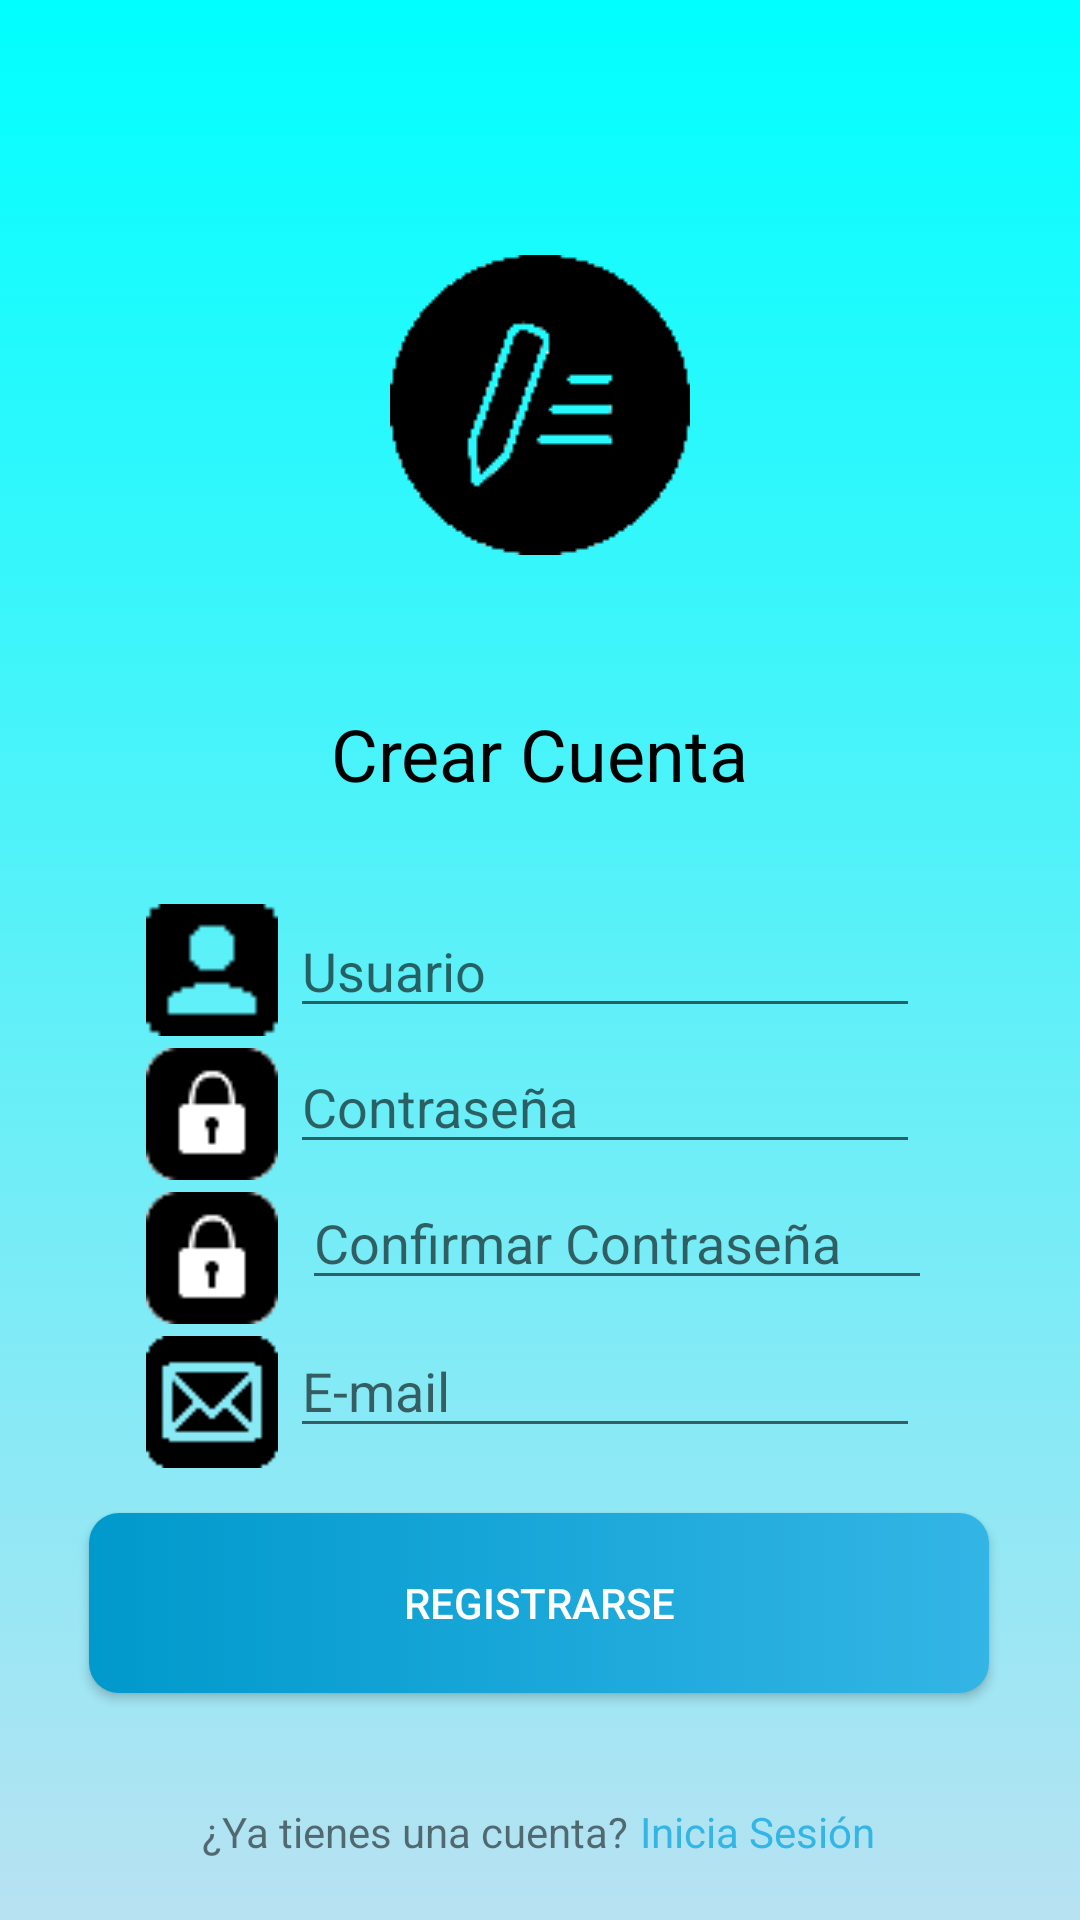

Where icons sit on this 1080*1920 app screen, as [x1,y1,x2,y2]:
login user: [146,904,278,1036]
password: [146,1048,278,1180], [146,1192,278,1324]
register: [390,255,690,555]
